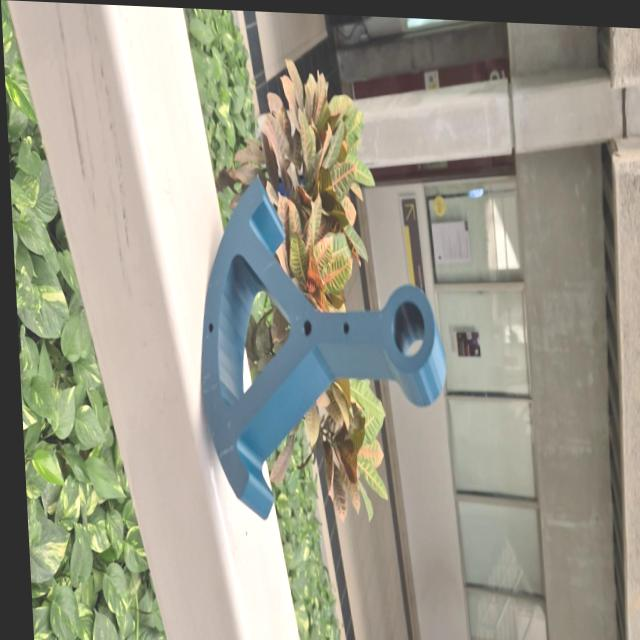haptic: (188, 173, 456, 531)
